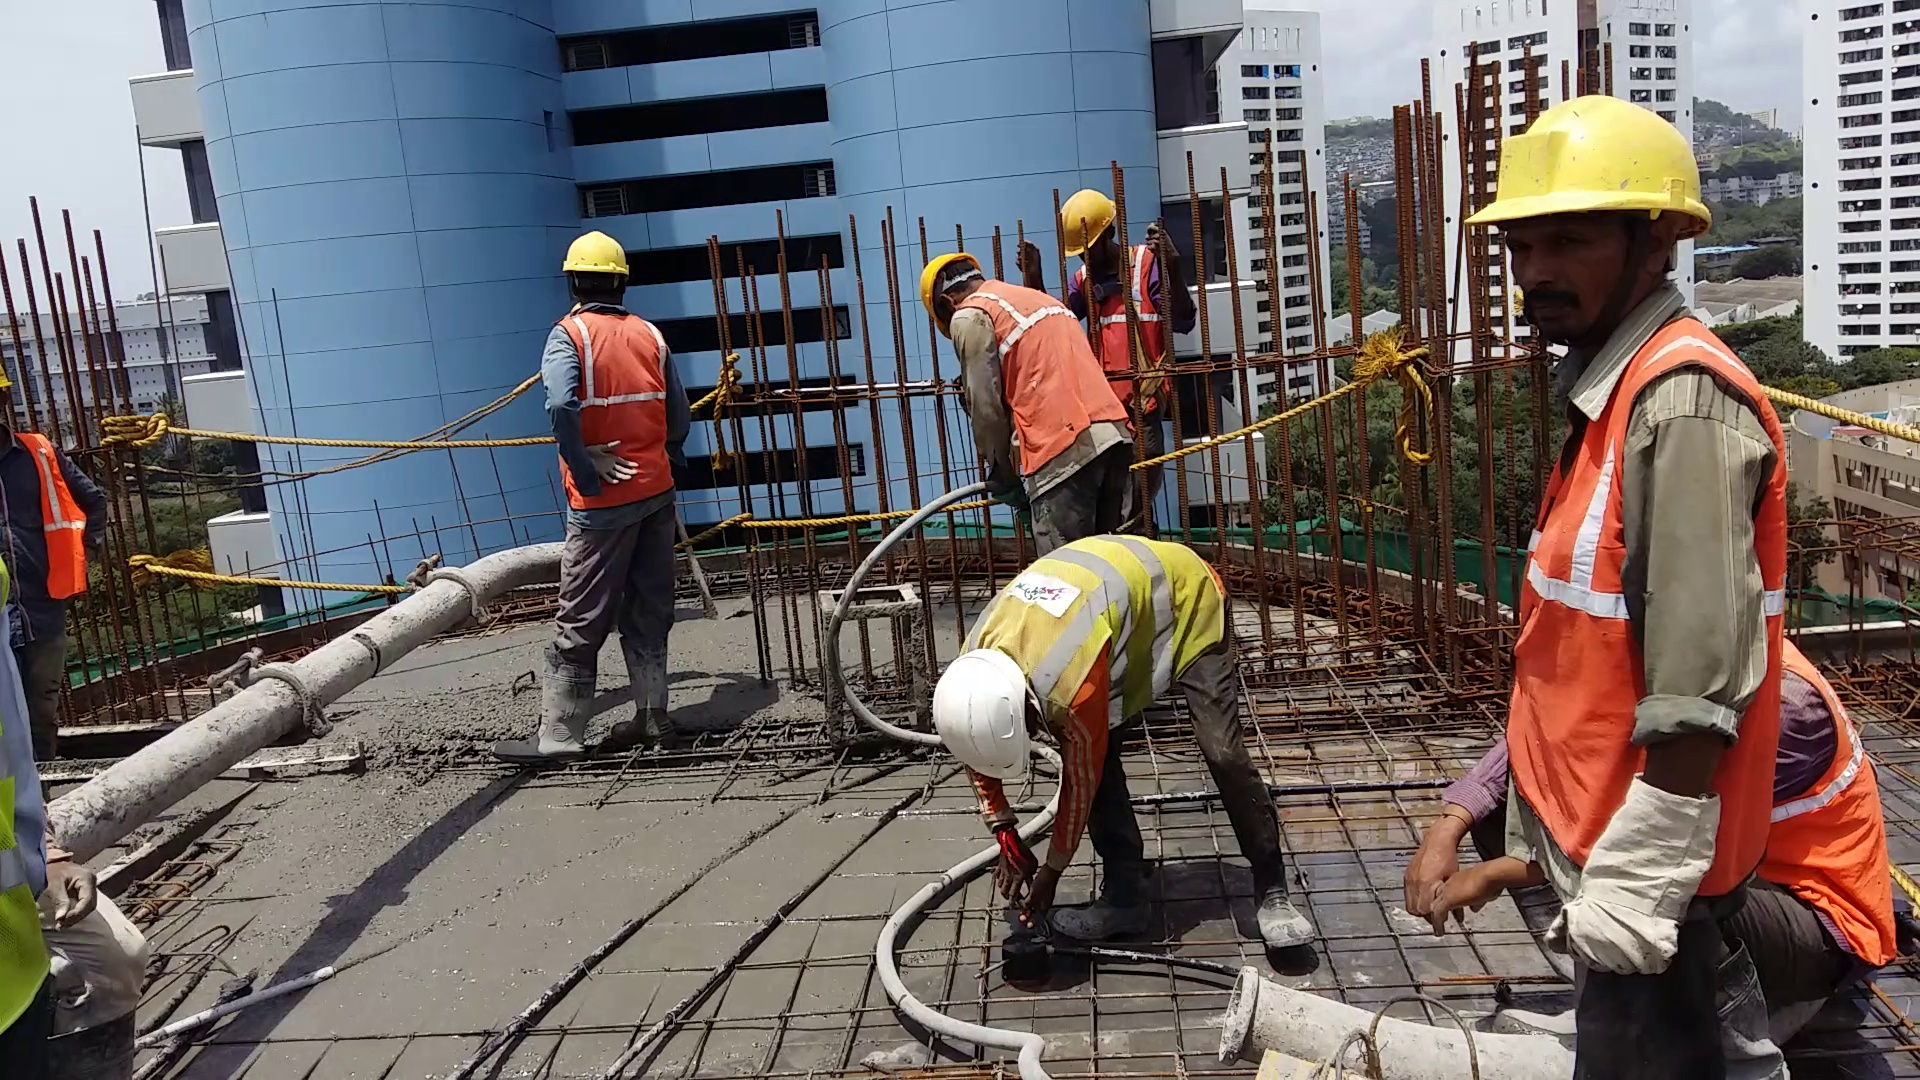SAFE: (1491, 91, 1785, 858), (930, 535, 1228, 777), (914, 247, 1124, 472), (556, 229, 676, 512)
